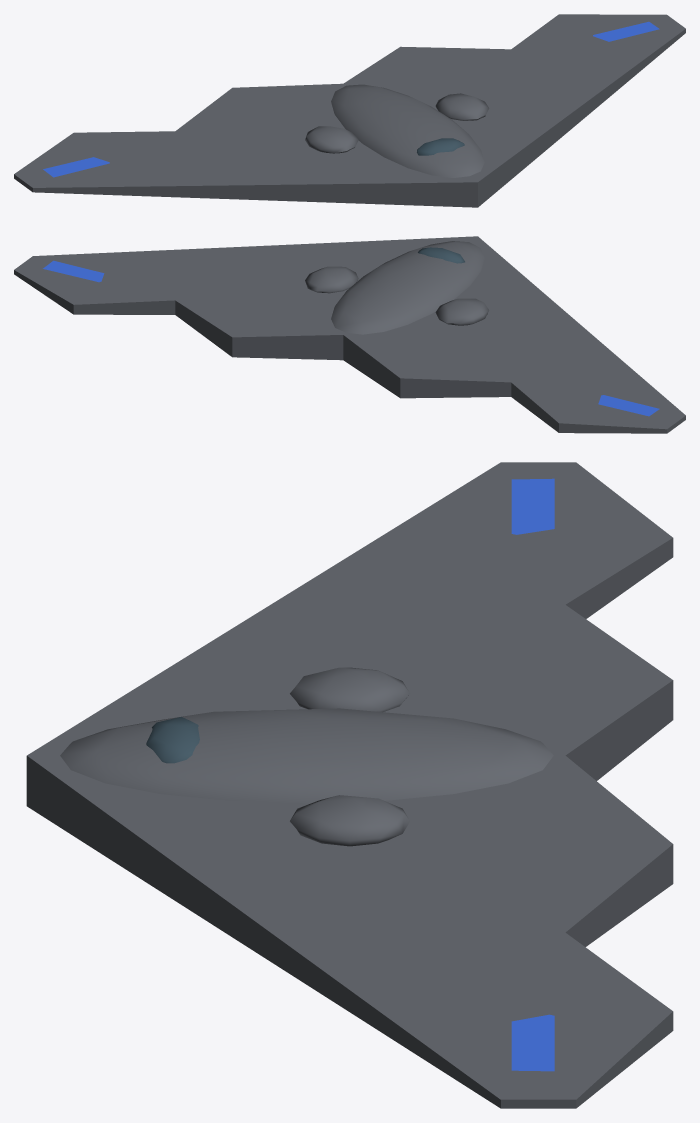
File: bomber_lod1.glb
3 views of the same model, one above another, from view 1: azimuth 30°, elevation 25°; view 2: azimuth 150°, elevation 25°; view 3: azimuth 270°, elevation 25° (orthographic). The views are drawn at different scales.
Visible parts, largest first — view 1: body; view 2: body; view 3: body.
Part boxes in pixels (<box>): body: <box>14,14,685,207</box>; body: <box>14,236,685,433</box>; body: <box>26,462,673,1108</box>.
Bounding box in the file's own units: 14 × 0.7794 × 6.
